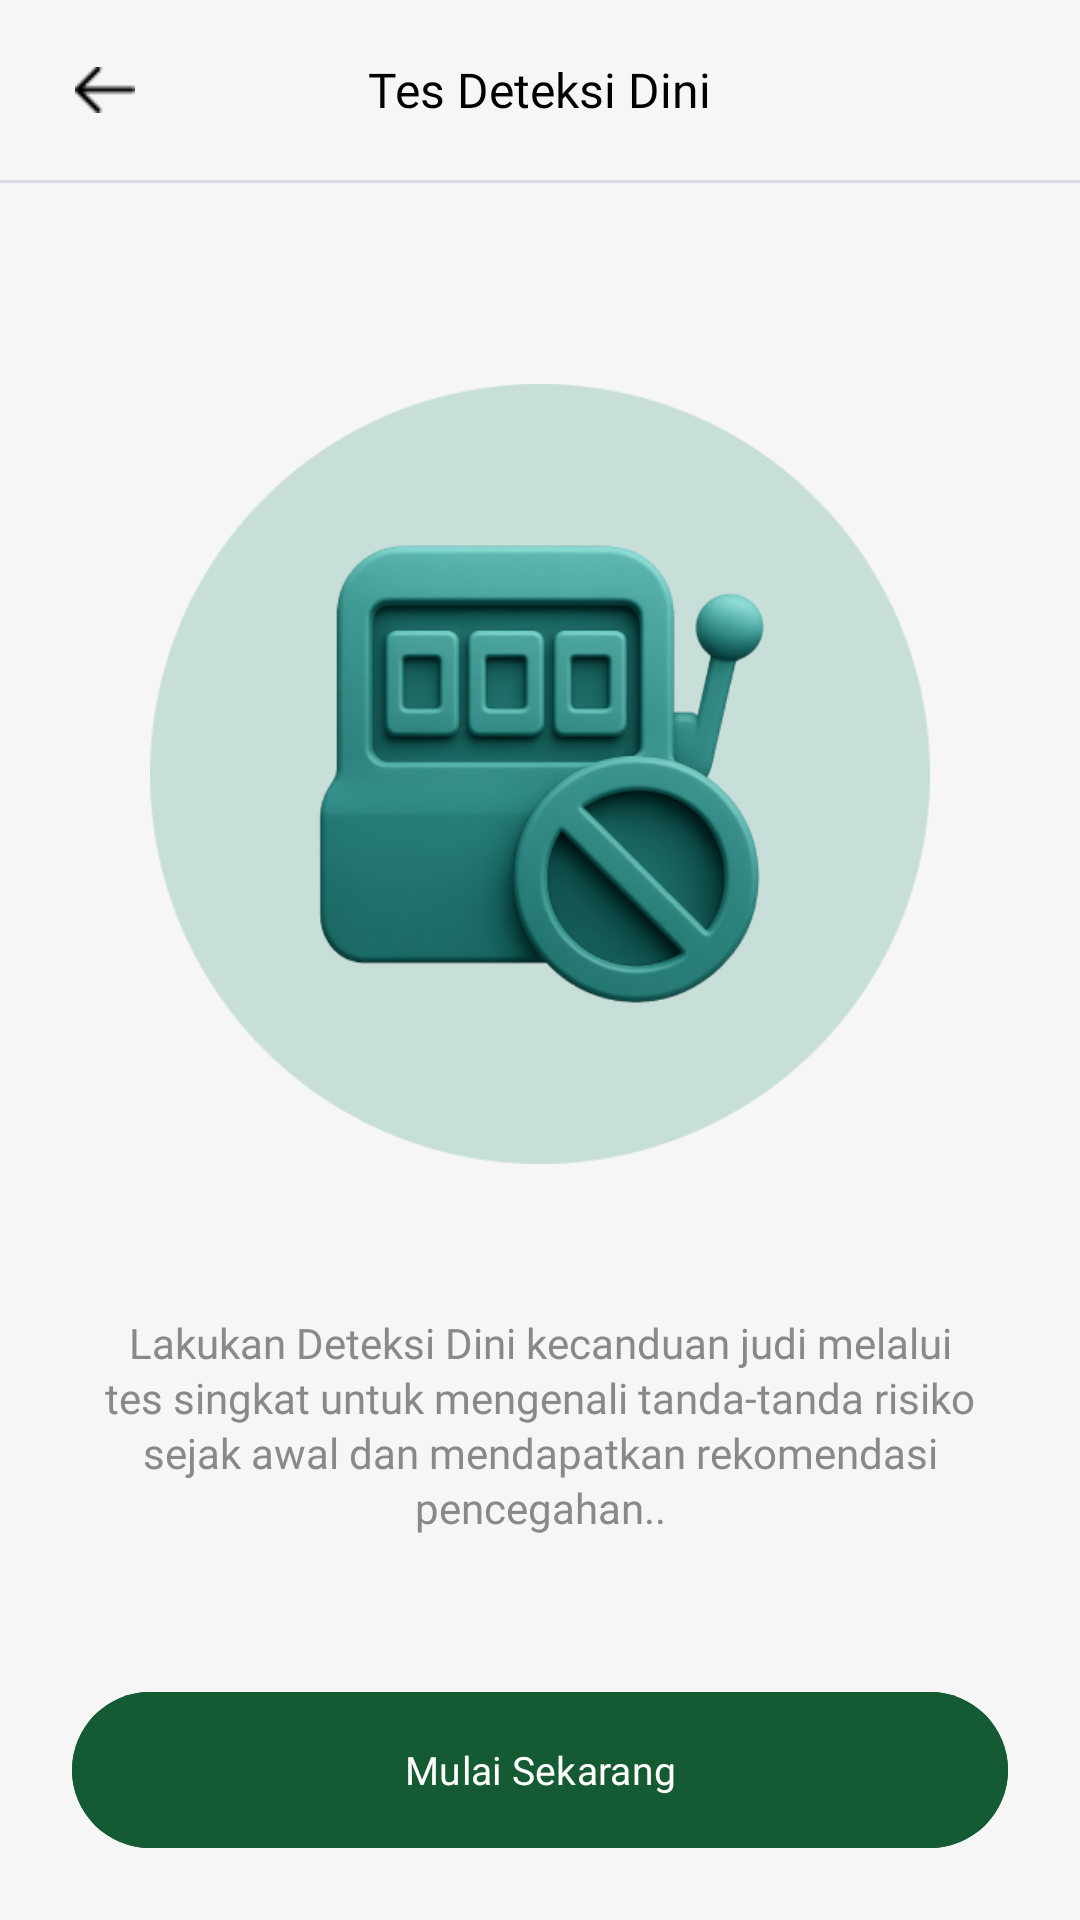

Icon bounding boxes for this 1080px×1920px phone screenshot, format (x1, y1, x2, y2):
arrow left: (75, 67, 135, 113)
